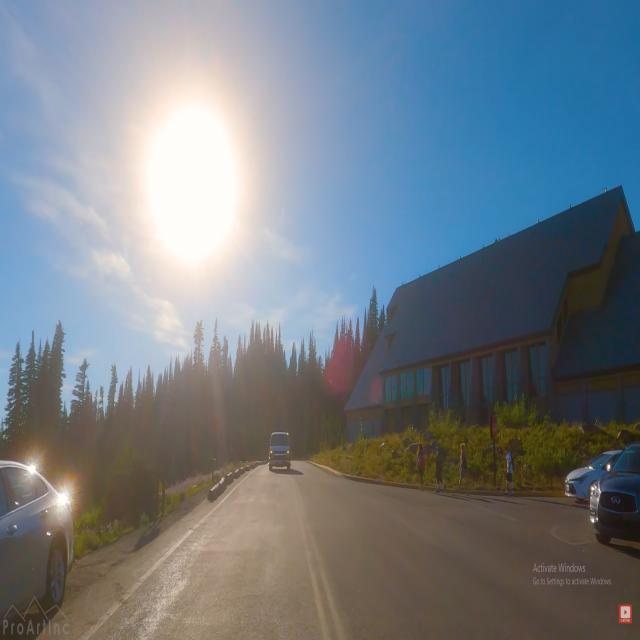sun: (117, 76, 266, 321)
